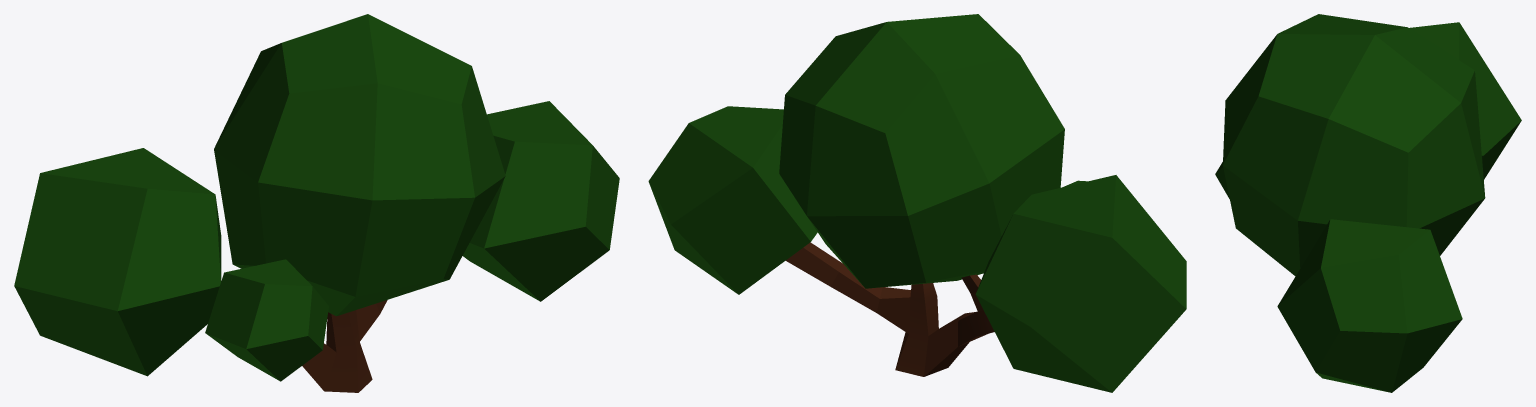
Rendered from Bush 002.FBX.
3 views of the same model, side by side, from view 1: azimuth 30°, elevation 25°; view 2: azimuth 150°, elevation 25°; view 3: azimuth 270°, elevation 25° (orthographic). The views are drawn at different scales.
Parts seen in each view (by area): view 1: Bush 001; view 2: Bush 001; view 3: Bush 001.
Part boxes in pixels (box(x1,y1,x2,y2)): Bush 001: box(14, 14, 619, 392); Bush 001: box(648, 14, 1186, 392); Bush 001: box(1215, 14, 1521, 392).
Bounding box in the file's own units: 2.02 × 1.21 × 1.03.
